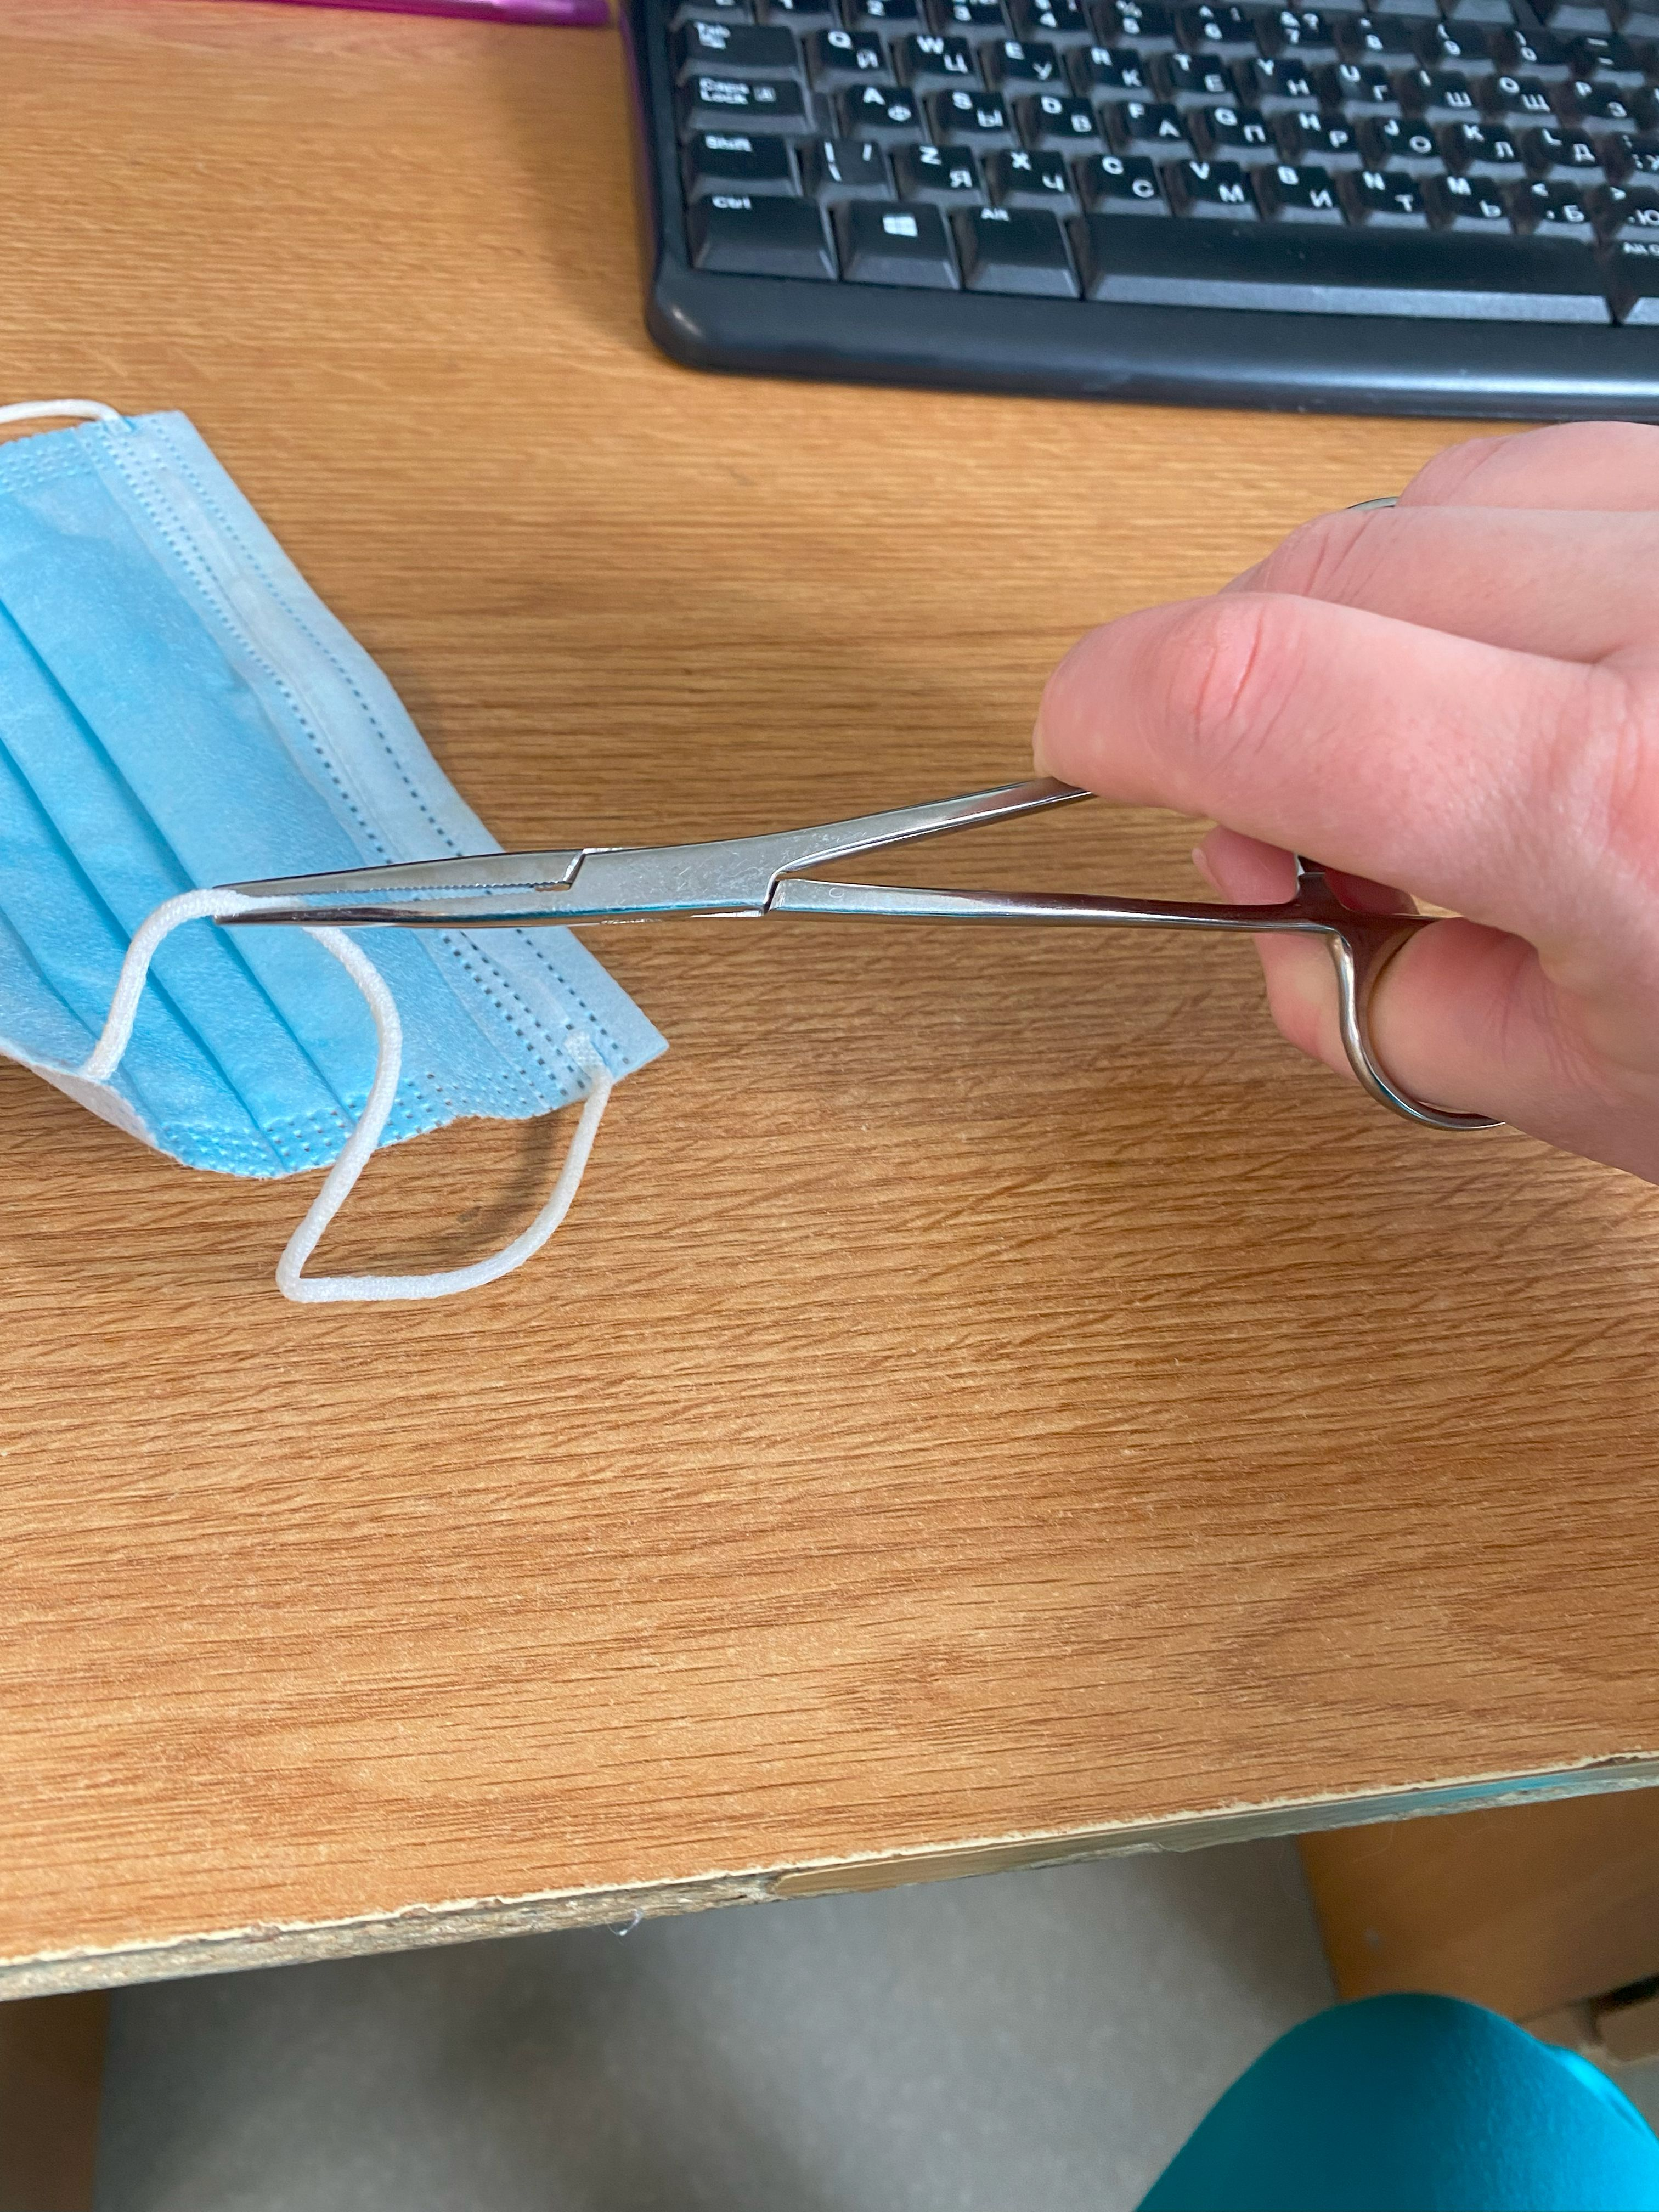clamp: (217, 778, 1489, 1130)
